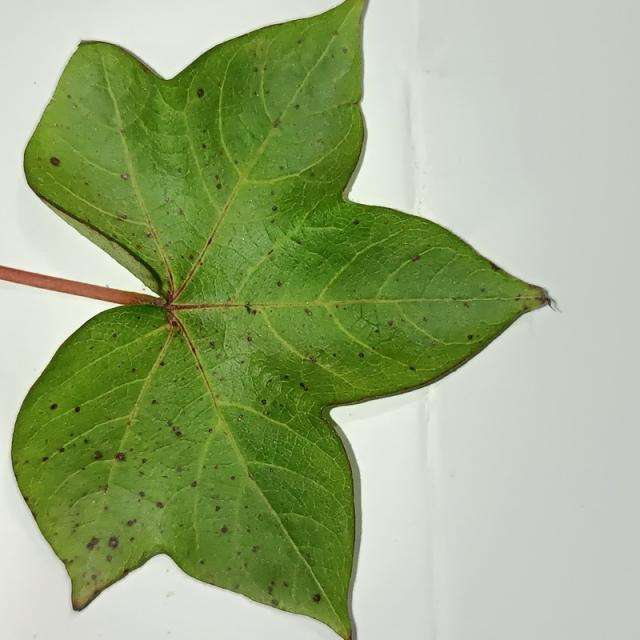Bacterial_Blight: (110, 445, 130, 469), (45, 151, 65, 173), (404, 246, 423, 264), (187, 473, 202, 493), (274, 274, 288, 293), (38, 454, 52, 469), (48, 398, 58, 417), (86, 536, 99, 550), (211, 181, 227, 192), (108, 536, 119, 548), (129, 364, 138, 376), (93, 450, 103, 460), (490, 262, 500, 271), (92, 589, 100, 600), (312, 594, 321, 603), (169, 318, 178, 327), (196, 88, 204, 98), (351, 100, 361, 108), (221, 525, 229, 534), (273, 119, 281, 128), (74, 403, 81, 413), (267, 585, 274, 595), (299, 382, 307, 390), (126, 519, 135, 526), (121, 173, 130, 180), (211, 493, 220, 500), (156, 501, 164, 508), (251, 545, 259, 552), (309, 356, 317, 363), (64, 558, 72, 565), (175, 430, 182, 437), (106, 555, 113, 562), (305, 309, 312, 316), (271, 599, 278, 606), (463, 301, 470, 308), (226, 296, 233, 303), (209, 341, 215, 349), (119, 214, 127, 220), (178, 208, 184, 216), (514, 295, 522, 301), (215, 505, 221, 512), (387, 320, 393, 327), (247, 335, 253, 342), (146, 232, 153, 238), (248, 472, 254, 479), (176, 466, 183, 472), (342, 47, 348, 54), (267, 249, 274, 255), (214, 174, 220, 181), (233, 583, 239, 590), (522, 304, 528, 311), (467, 334, 473, 340), (159, 361, 165, 367), (358, 352, 364, 358), (139, 491, 145, 497), (261, 399, 267, 405), (201, 143, 207, 149), (59, 447, 65, 453), (251, 309, 257, 315), (141, 458, 147, 464), (480, 287, 486, 293), (199, 559, 205, 565), (216, 353, 222, 359), (103, 485, 109, 491), (91, 574, 97, 580), (253, 67, 259, 73), (120, 128, 126, 134), (271, 206, 278, 211), (353, 220, 360, 225), (409, 366, 416, 371), (151, 399, 158, 404), (230, 475, 236, 480), (374, 329, 380, 334), (84, 438, 89, 444), (423, 316, 428, 322), (112, 332, 117, 338), (129, 537, 135, 542), (431, 340, 436, 346), (238, 413, 243, 419), (297, 39, 303, 44), (284, 375, 289, 380), (208, 428, 213, 433), (189, 255, 194, 260), (328, 313, 333, 318), (295, 104, 300, 109), (310, 172, 315, 177), (178, 168, 183, 173), (67, 94, 72, 99), (279, 165, 284, 170), (165, 197, 170, 202), (169, 256, 174, 261), (332, 353, 337, 357), (240, 360, 245, 364), (516, 293, 521, 297), (141, 288, 146, 292), (335, 304, 339, 308), (33, 81, 37, 85)
Cotton: (12, 0, 552, 639)
